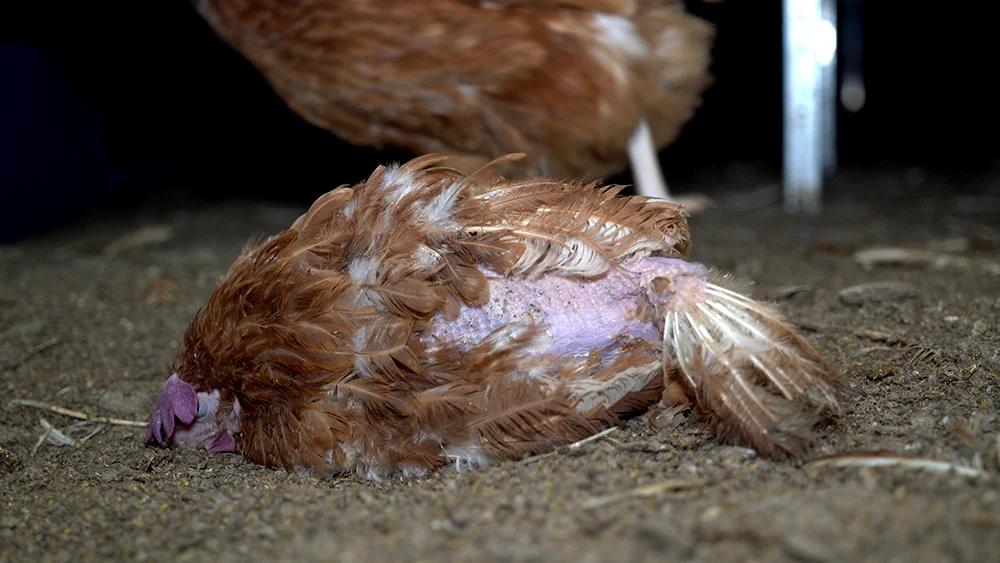AbNormal: (143, 156, 852, 467)
